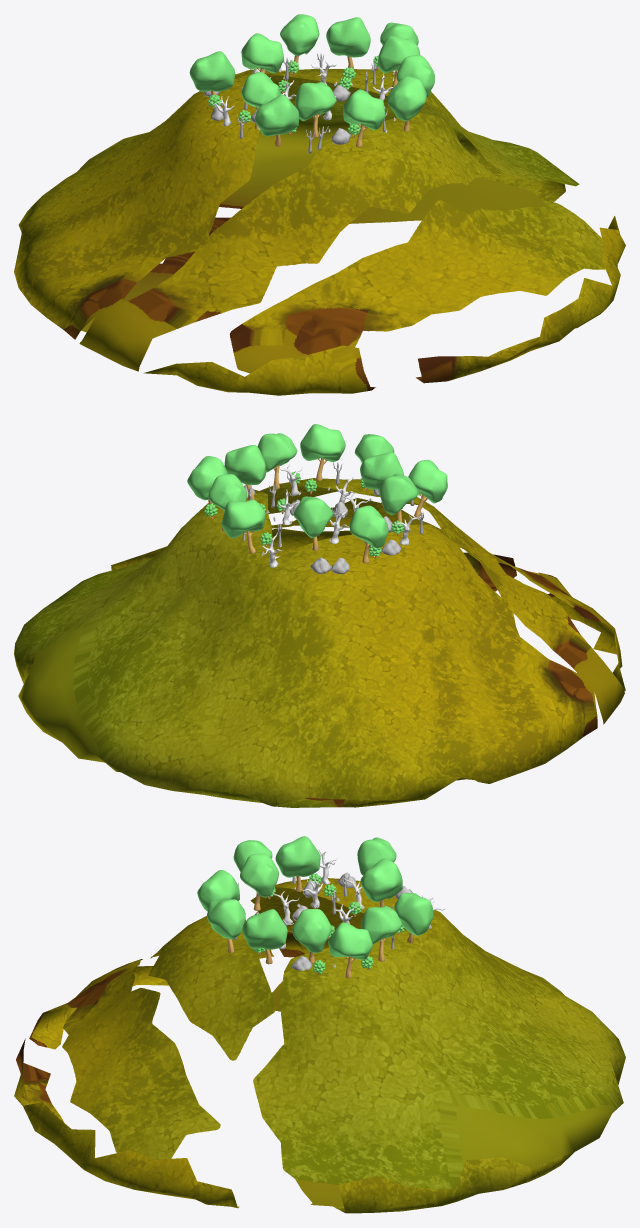
The model's file is MiniIslandBloLDet.fbx.
3 renders of one model, top to bottom at view 1: azimuth 30°, elevation 25°; view 2: azimuth 150°, elevation 25°; view 3: azimuth 270°, elevation 25°, orthographic.
Parts seen in each view (by area): view 1: miniIslandLlp, tree03lp.013, tree03lp.005, tree03lp.012, tree03lp.008, tree03lp.010, tree03lp.007, tree03lp.001, tree03lp.009, tree03lp.016, tree03lp.006, tree03lp.015; view 2: miniIslandLlp, tree03lp.010, tree03lp.009, tree03lp.016, tree03lp.005, tree03lp.012, tree03lp.001, tree03lp.006, tree03lp.015, tree03lp.007, tree03lp.014, tree03lp.013 (+1 smaller); view 3: miniIslandLlp, tree03lp.015, tree03lp.006, tree03lp.014, tree03lp.001, tree03lp.016, tree03lp.007, tree03lp.010, tree03lp.009, tree03lp.013, tree03lp.008, tree03lp.005 (+1 smaller).
Boxes of the visible parts, x1,y1,x2,y2 form: miniIslandLlp: [14, 69, 625, 395]; tree03lp.013: [326, 17, 370, 69]; tree03lp.005: [189, 51, 235, 95]; tree03lp.012: [255, 95, 298, 146]; tree03lp.008: [343, 89, 385, 147]; tree03lp.010: [387, 76, 426, 131]; tree03lp.007: [295, 82, 336, 137]; tree03lp.001: [241, 33, 283, 73]; tree03lp.009: [280, 14, 319, 71]; tree03lp.016: [377, 36, 420, 90]; tree03lp.006: [241, 72, 281, 129]; tree03lp.015: [396, 55, 434, 96]; miniIslandLlp: [14, 478, 625, 807]; tree03lp.010: [300, 424, 345, 480]; tree03lp.009: [221, 499, 265, 553]; tree03lp.016: [224, 445, 265, 499]; tree03lp.005: [349, 505, 388, 563]; tree03lp.012: [408, 459, 447, 517]; tree03lp.001: [293, 496, 332, 550]; tree03lp.006: [379, 473, 417, 522]; tree03lp.015: [257, 433, 297, 489]; tree03lp.007: [360, 452, 403, 505]; tree03lp.014: [187, 456, 227, 504]; tree03lp.013: [208, 474, 246, 531]; miniIslandLlp: [14, 877, 625, 1213]; tree03lp.015: [242, 909, 287, 964]; tree03lp.006: [275, 836, 320, 891]; tree03lp.014: [328, 922, 372, 978]; tree03lp.001: [360, 858, 402, 907]; tree03lp.016: [292, 908, 331, 962]; tree03lp.007: [240, 853, 278, 910]; tree03lp.010: [207, 899, 245, 952]; tree03lp.009: [394, 893, 433, 943]; tree03lp.013: [361, 906, 402, 961]; tree03lp.008: [197, 870, 239, 911]; tree03lp.005: [357, 837, 396, 875].
Bounding box in the file's own units: 266 × 107 × 269.
